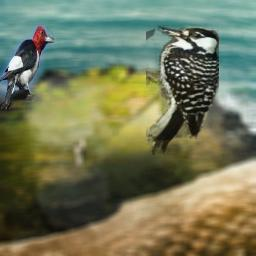Woodpecker: (146, 25, 219, 155), (0, 25, 54, 109)
